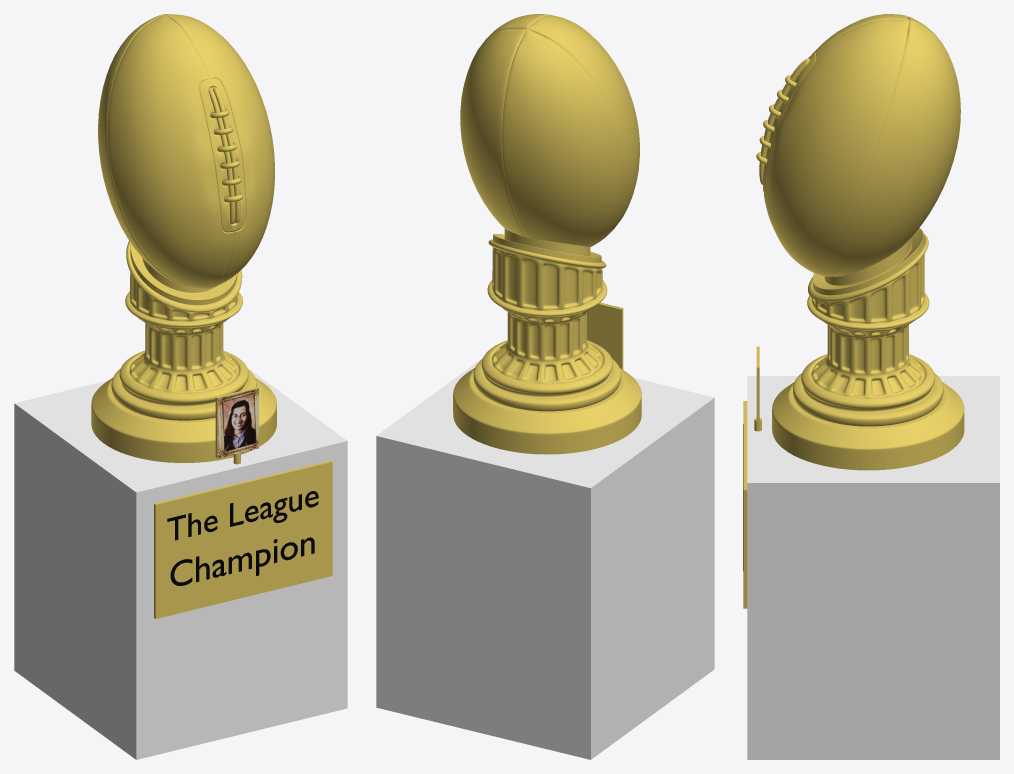
The model's file is leaguetrophy.glb.
3 renders of one model, left to right at view 1: azimuth 30°, elevation 25°; view 2: azimuth 150°, elevation 25°; view 3: azimuth 270°, elevation 25°, orthographic. The views are drawn at different scales.
Parts seen in each view (by area): view 1: BaseMain, 19205_Football_trophy_on_tee_V1, MainPlaque, shiva_trophy, ChampionsText, TheLeagueText; view 2: BaseMain, 19205_Football_trophy_on_tee_V1, ShivaHolder; view 3: BaseMain, 19205_Football_trophy_on_tee_V1, MainPlaque.
Part boxes in pixels (left/top/right/bottom): BaseMain: left=14, top=368, right=347, bottom=759; 19205_Football_trophy_on_tee_V1: left=91, top=14, right=276, bottom=462; MainPlaque: left=154, top=460, right=332, bottom=618; shiva_trophy: left=218, top=388, right=258, bottom=458; ChampionsText: left=170, top=537, right=314, bottom=585; TheLeagueText: left=167, top=491, right=318, bottom=540; BaseMain: left=376, top=358, right=714, bottom=759; 19205_Football_trophy_on_tee_V1: left=453, top=14, right=641, bottom=454; ShivaHolder: left=587, top=303, right=623, bottom=369; BaseMain: left=747, top=376, right=999, bottom=759; 19205_Football_trophy_on_tee_V1: left=756, top=14, right=964, bottom=470; MainPlaque: left=743, top=401, right=747, bottom=608.
Bounding box in the file's own units: 19.46 × 58.43 × 19.79.
4 materials, 1 textured.
